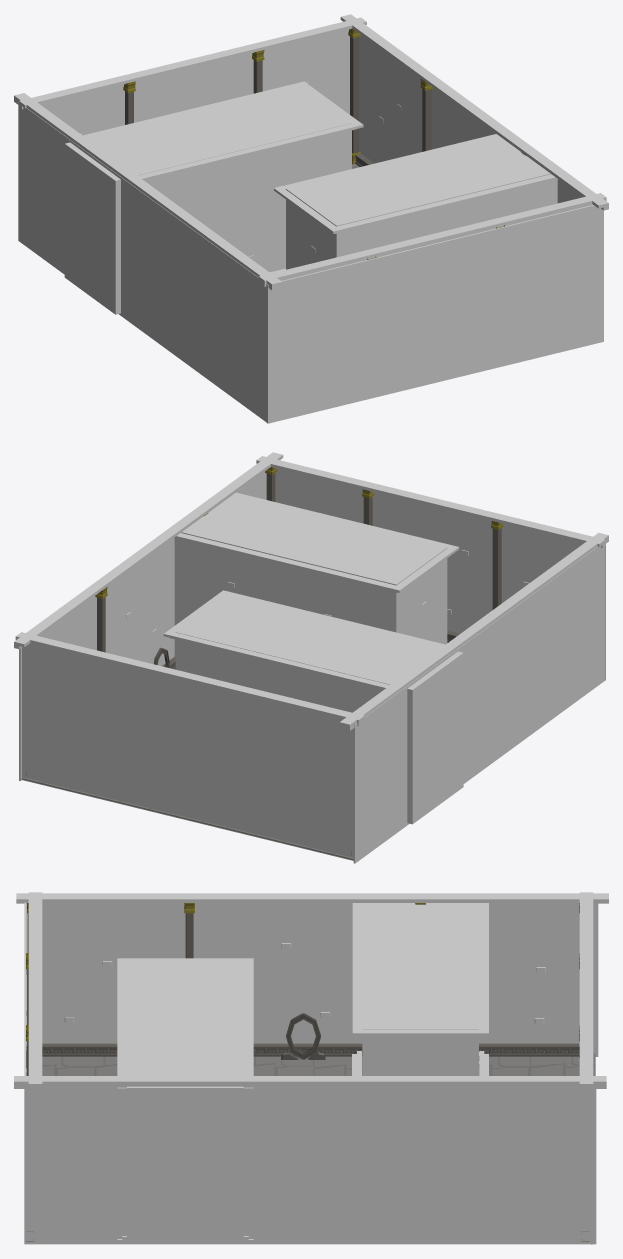
3 views of the same model, one above another, from view 1: azimuth 30°, elevation 25°; view 2: azimuth 150°, elevation 25°; view 3: azimuth 270°, elevation 25° (orthographic). The views are drawn at different scales.
Parts seen in each view (by area): view 1: object 1, Box064, Box063, Box075, Box069, Box070, Object088; view 2: object 1, Box064, Box063, Box075, Box069, Box070, Object088, 1; view 3: object 1, Box063, Box064, Box075, 1, Box070, Object089, Box069, Object088, portal009.
Boxes of the visible parts, x1,y1,x2,y2 form: object 1: (18, 29, 603, 423); Box064: (64, 86, 351, 314); Box063: (286, 136, 557, 269); Box075: (14, 14, 608, 290); Box069: (274, 134, 558, 233); Box070: (83, 81, 363, 180); Object088: (123, 28, 525, 259); object 1: (19, 469, 605, 863); Box064: (175, 595, 463, 824); Box063: (174, 495, 447, 656); Box075: (14, 452, 608, 730); Box069: (174, 492, 459, 592); Box070: (163, 590, 445, 689); Object088: (95, 467, 503, 652); 1: (21, 642, 447, 859); object 1: (24, 902, 598, 1244); Box063: (127, 961, 243, 1242); Box064: (362, 903, 478, 1075); Box075: (14, 892, 608, 1091); 1: (42, 1053, 595, 1075); Box070: (352, 903, 488, 1036); Object089: (26, 1043, 589, 1241); Box069: (117, 958, 253, 1093); Object088: (26, 903, 579, 1075); portal009: (281, 1013, 325, 1059).
Size of the model in its own units: 3154 by 1235 by 4088.
